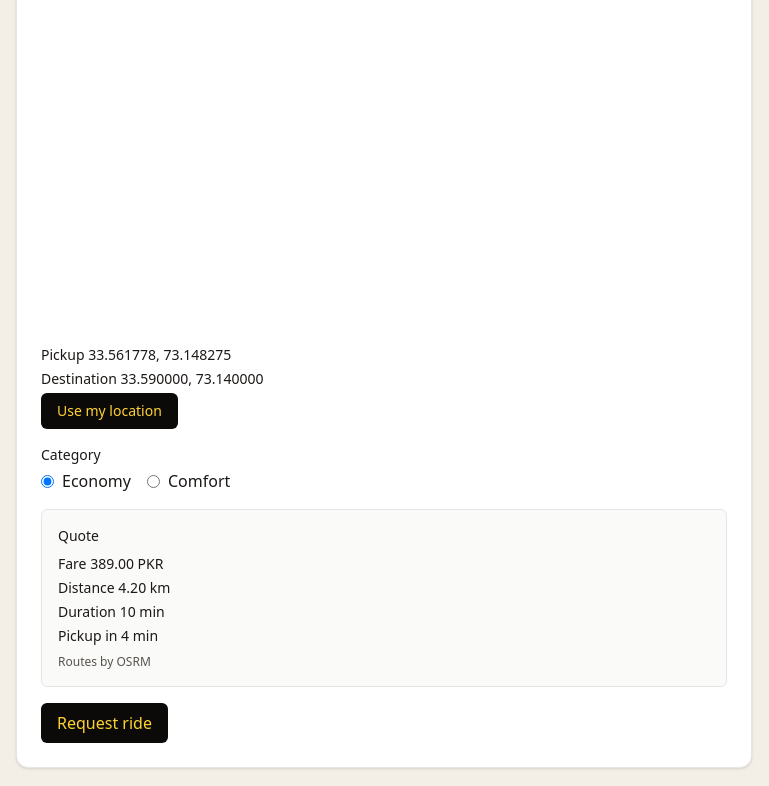
it: shows a busy label while create is in flight
This screenshot has width=769, height=786.
(page scrolled)
Check: the text "Pickup 33.561778, 73.148275" is shown, box [41,345,231,364]
Check: the text "389.00" is shown, box [90,554,134,573]
Click the button "Request ride".
click(104, 723)  # box [41,703,168,743]
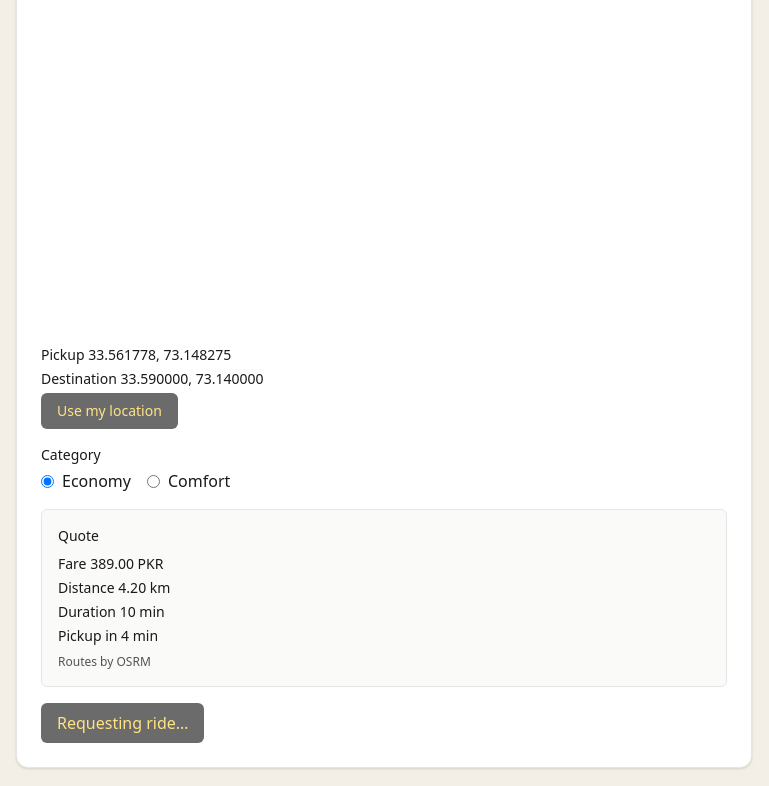
Check: the button "Requesting ride…" is disabled, box [41,703,204,743]
